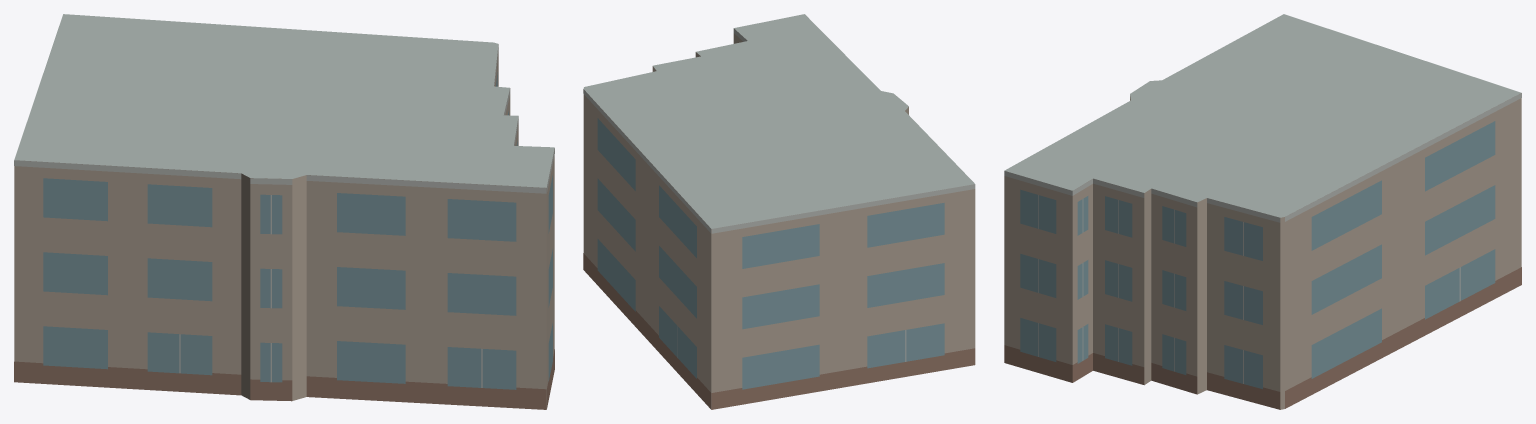
The model's file is survey-upis-32959729.glb.
3 renders of one model, left to right at view 1: azimuth 30°, elevation 25°; view 2: azimuth 150°, elevation 25°; view 3: azimuth 270°, elevation 25°, orthographic. The views are drawn at different scales.
Visible parts, largest first — view 1: survey-upis-32959729.tmp; view 2: survey-upis-32959729.tmp; view 3: survey-upis-32959729.tmp.
Part boxes in pixels (<box>): survey-upis-32959729.tmp: <box>14,14,554,409</box>; survey-upis-32959729.tmp: <box>583,14,975,409</box>; survey-upis-32959729.tmp: <box>1004,14,1521,409</box>.
Size of the model in its own units: 20.81 by 9.15 by 22.34.
